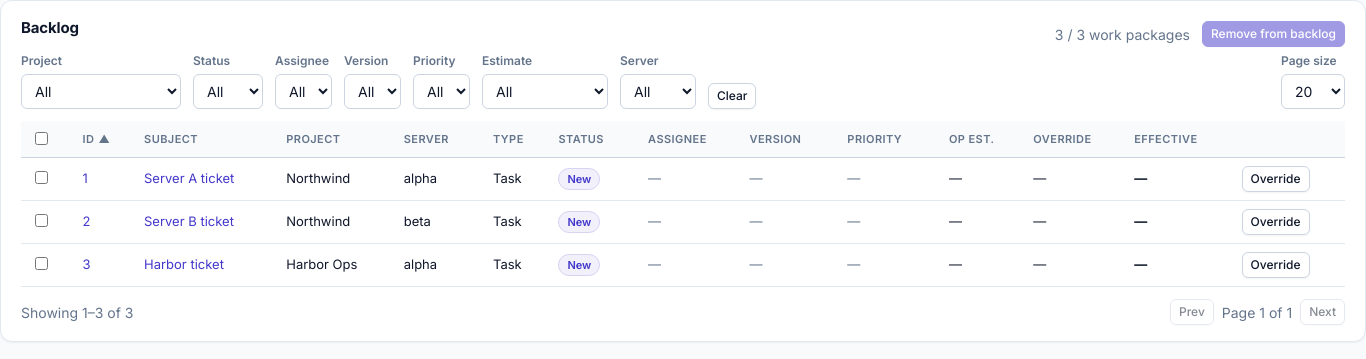
it: BacklogScreen › filters by the connection-safe project KEY and sends it as projectKey (Increment 40)
Check: the link "Server B ticket" is shown, box [144, 213, 234, 229]
Select "Northwind (beta)" in the dropdown labelled "Project" at (101, 91), box [21, 74, 181, 108]
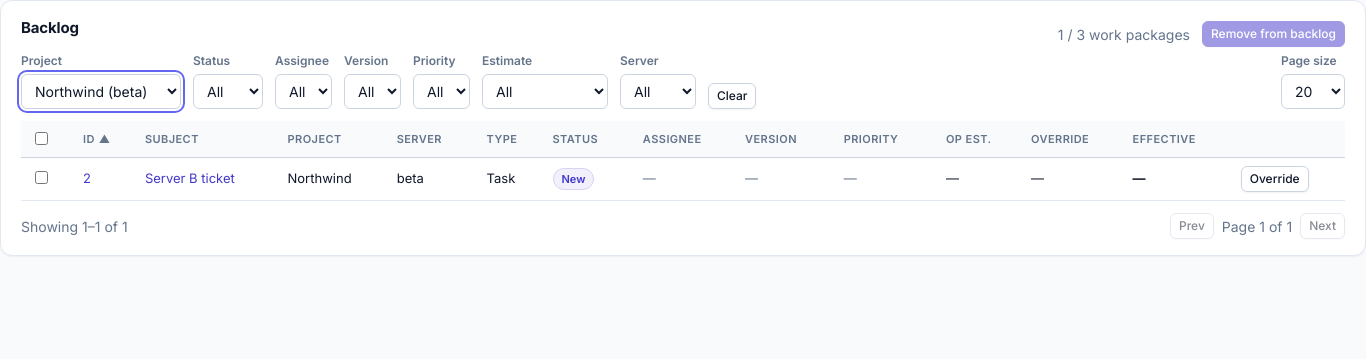
Check: the link "Server B ticket" is shown, box [145, 170, 235, 186]
Check: the link "Server A ticket" is gone
Check: the link "Harbor ticket" is gone
